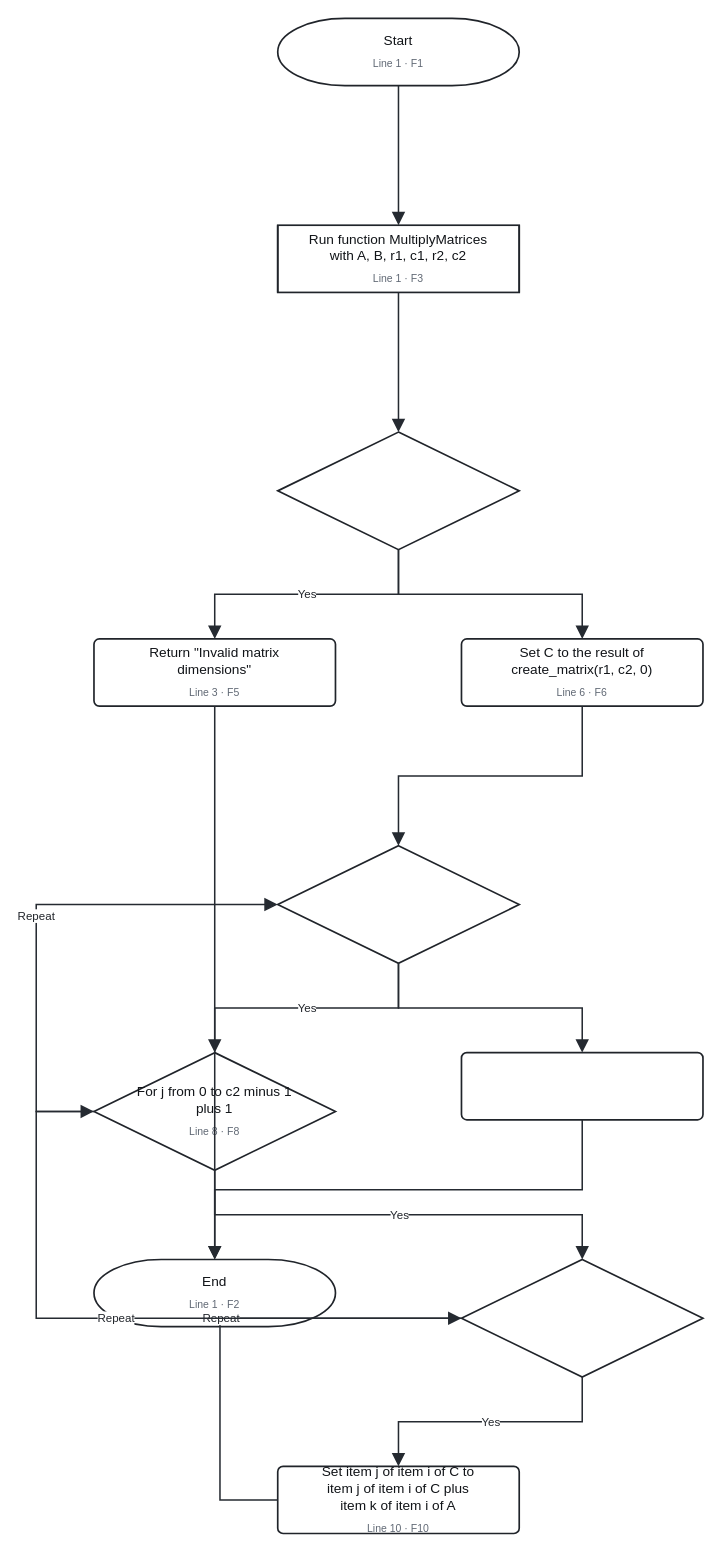
This 722x1555 diagram has some shape labels left out. Each missing label, with the centre of its shape:
"C1 is not equal to r2? Line 2 · F4" goes at point (398, 490).
"For i from 0 to r1 minus 1 plus 1 Line 7 · F7" goes at point (398, 904).
"For k from 0 to c1 minus 1 plus 1 Line 9 · F9" goes at point (581, 1317).
"Return C Line 14 · F11" goes at point (581, 1085).
